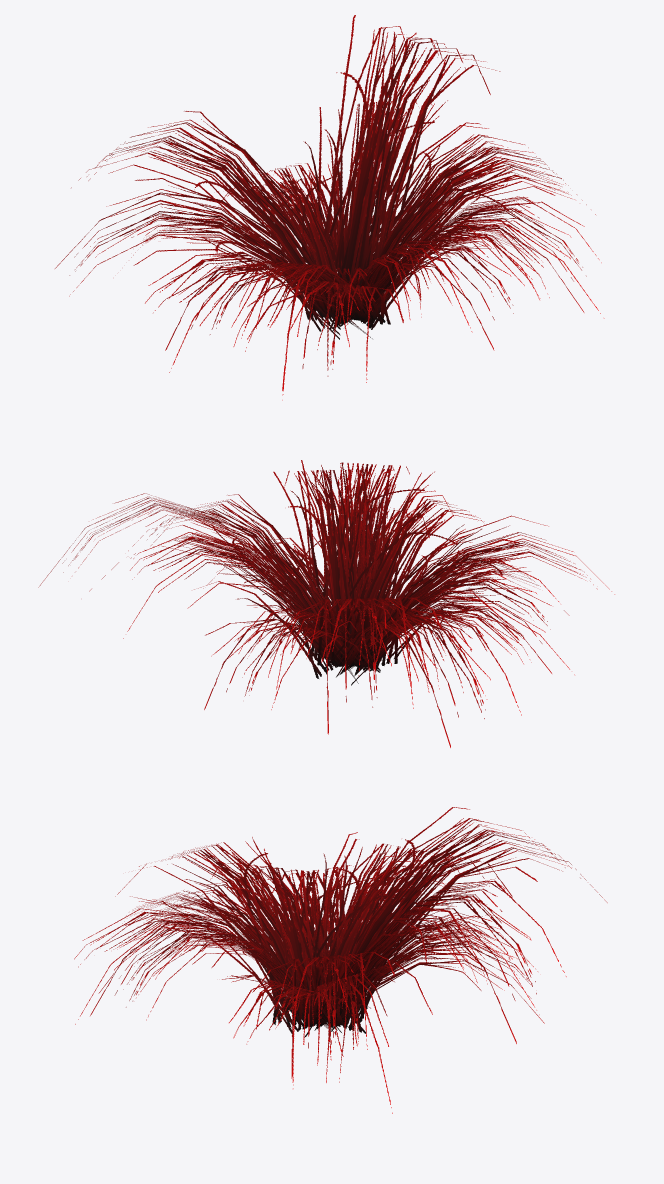
Rendered from bush_beach_dunegrass_a_lod2.glb.
3 renders of one model, top to bottom at view 1: azimuth 30°, elevation 25°; view 2: azimuth 150°, elevation 25°; view 3: azimuth 270°, elevation 25°, orthographic. The views are drawn at different scales.
Visible parts, largest first — view 1: bush_beach_dunegrass_a; view 2: bush_beach_dunegrass_a; view 3: bush_beach_dunegrass_a.
Boxes of the visible parts, left/top/right/bottom form: bush_beach_dunegrass_a: left=55, top=15, right=604, bottom=400; bush_beach_dunegrass_a: left=38, top=460, right=614, bottom=747; bush_beach_dunegrass_a: left=74, top=807, right=607, bottom=1113.
Size of the model in its own units: 2.18 by 0.863 by 2.19.
1 material, 1 textured.
